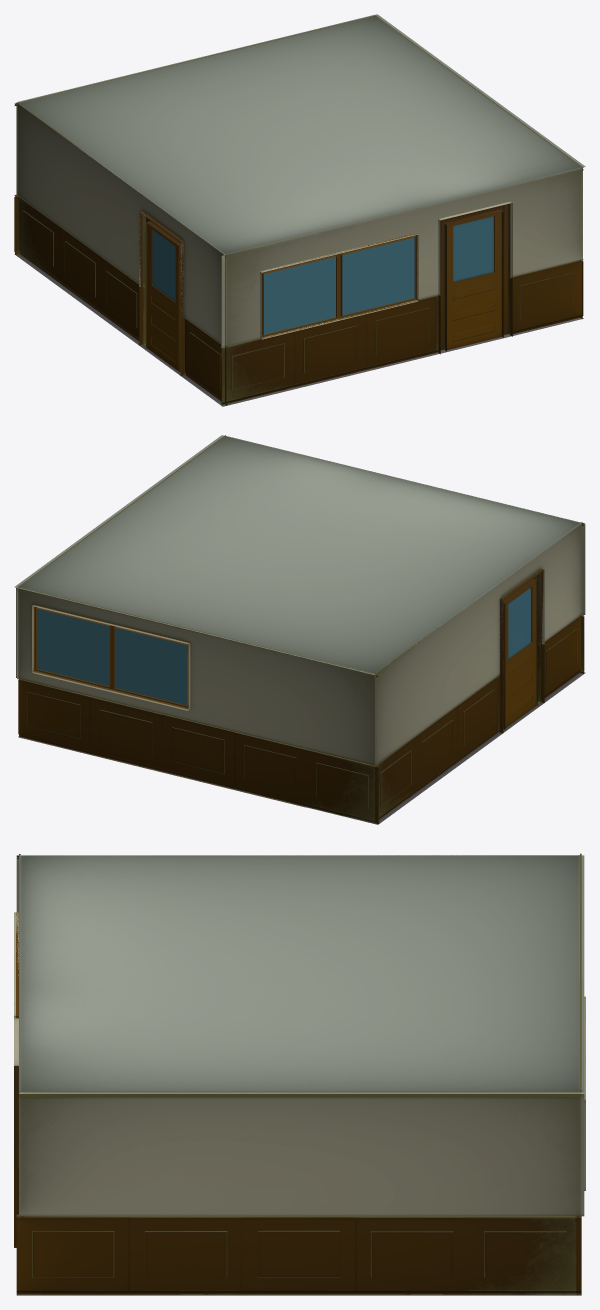
Rendered from Office Interior.fbx.
3 renders of one model, top to bottom at view 1: azimuth 30°, elevation 25°; view 2: azimuth 150°, elevation 25°; view 3: azimuth 270°, elevation 25°, orthographic. The views are drawn at different scales.
Visible parts, largest first — view 1: Ceiling, Wall_04, Skirting_04, Wall_01, Window_02, Skirting_02, Door_02, Door_01, Door Frame_02, Door Frame_01, Floor; view 2: Ceiling, Wall_02, Skirting_01, Wall_01, Window_01, Skirting_02, Door_01, Door Frame_01, Floor, Cornice_02; view 3: Ceiling, Wall_03, Skirting_03, Floor, Cornice_01, Door Frame_02, Wall_04.
Boxes of the visible parts, x1,y1,x2,y2 form: Ceiling: [16, 14, 585, 254]; Wall_04: [221, 168, 582, 347]; Skirting_04: [220, 260, 582, 405]; Wall_01: [17, 104, 225, 346]; Window_02: [262, 233, 417, 338]; Skirting_02: [18, 196, 228, 405]; Door_02: [444, 209, 501, 349]; Door_01: [147, 223, 180, 370]; Door Frame_02: [438, 202, 512, 354]; Door Frame_01: [139, 211, 185, 375]; Floor: [14, 253, 583, 406]; Ceiling: [14, 435, 581, 674]; Wall_02: [16, 588, 376, 765]; Skirting_01: [18, 678, 379, 824]; Wall_01: [375, 522, 582, 765]; Window_01: [34, 605, 189, 709]; Skirting_02: [372, 616, 580, 823]; Door_01: [503, 581, 536, 729]; Door Frame_01: [498, 569, 544, 733]; Floor: [18, 672, 585, 824]; Cornice_02: [19, 587, 377, 677]; Ceiling: [19, 855, 584, 1093]; Wall_03: [19, 1092, 584, 1216]; Skirting_03: [16, 1214, 581, 1294]; Floor: [16, 1294, 581, 1295]; Cornice_01: [18, 1091, 580, 1095]; Door Frame_02: [14, 1066, 18, 1247]; Wall_04: [14, 912, 18, 1065].
Bounding box in the file's own units: 606 × 239 × 608.
